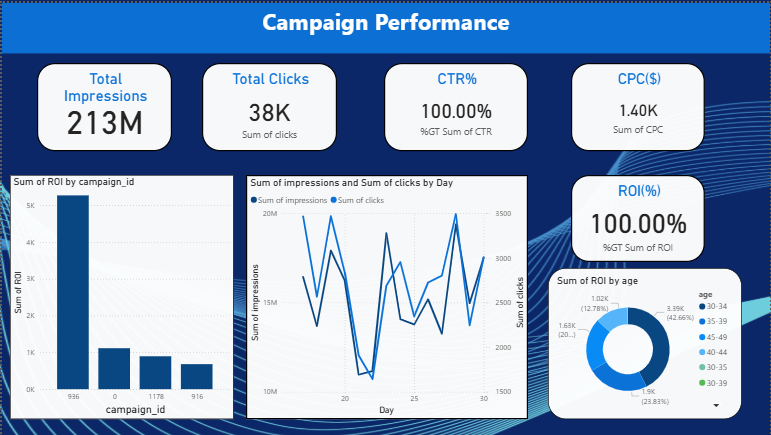

The dashboard page shown, as its layout file describes it:
{"tool":"powerbi","page":{"name":"Page 1","canvas":[1280,720],"ordinal":0},"visuals":[{"type":"card","title":"Total Impressions","fields":{"Values":["Sum(campaign_data_with_metrics_updated.impressions)"]},"box":[58.3,100,225,146.7],"z":0},{"type":"card","title":"Total Clicks","fields":{"Values":["Sum(campaign_data_with_metrics_updated.clicks)"]},"box":[333.3,100,225,146.7],"z":1000},{"type":"card","title":"CTR%","fields":{"Values":["Sum(campaign_data_with_metrics_updated.CTR)"]},"box":[636.7,100,240,146.7],"z":2000},{"type":"card","title":"CPC($)","fields":{"Values":["Sum(campaign_data_with_metrics_updated.CPC)"]},"box":[948.3,100,223.3,146.7],"z":3000},{"type":"card","title":"ROI(%)","fields":{"Values":["Sum(campaign_data_with_metrics_updated.ROI)"]},"box":[948.3,286.7,223.3,145],"z":4000},{"type":"textbox","box":[0,0,1280,84],"z":5000},{"type":"columnChart","fields":{"Category":["campaign_data_with_metrics_updated.campaign_id"],"Y":["Sum(campaign_data_with_metrics_updated.ROI)"]},"box":[13.3,286.7,373.3,406.7],"z":6000},{"type":"lineChart","fields":{"Category":["campaign_data_with_metrics_updated.reporting_start.Variation.Date Hierarchy.Year","campaign_data_with_metrics_updated.reporting_start.Variation.Date Hierarchy.Quarter","campaign_data_with_metrics_updated.reporting_start.Variation.Date Hierarchy.Month","campaign_data_with_metrics_updated.reporting_start.Variation.Date Hierarchy.Day"],"Y":["Sum(campaign_data_with_metrics_updated.impressions)"],"Y2":["Sum(campaign_data_with_metrics_updated.clicks)"]},"box":[406.7,286.7,470,406.7],"z":6001},{"type":"donutChart","fields":{"Category":["campaign_data_with_metrics_updated.age"],"Y":["Sum(campaign_data_with_metrics_updated.ROI)"]},"box":[910,441.7,323.3,251.7],"z":6002}]}

Visuals, with their boxes in screenshot pixels (x1, y1, x2, y2), scaled from the page's 1280x720 canvas onto the 771x435 screenshot:
"Total Impressions" card: l=35, t=60, r=171, b=149
"Total Clicks" card: l=201, t=60, r=336, b=149
"CTR%" card: l=384, t=60, r=528, b=149
"CPC($)" card: l=571, t=60, r=706, b=149
"ROI(%)" card: l=571, t=173, r=706, b=261
textbox: l=0, t=0, r=770, b=51
columnChart - campaign_data_with_metrics_updated.campaign_id x Sum(campaign_data_with_metrics_updated.ROI): l=8, t=173, r=233, b=419
lineChart - campaign_data_with_metrics_updated.reporting_start.Variation.Date Hierarchy.Year x campaign_data_with_metrics_updated.reporting_start.Variation.Date Hierarchy.Quarter: l=245, t=173, r=528, b=419
donutChart - campaign_data_with_metrics_updated.age x Sum(campaign_data_with_metrics_updated.ROI): l=548, t=267, r=743, b=419
